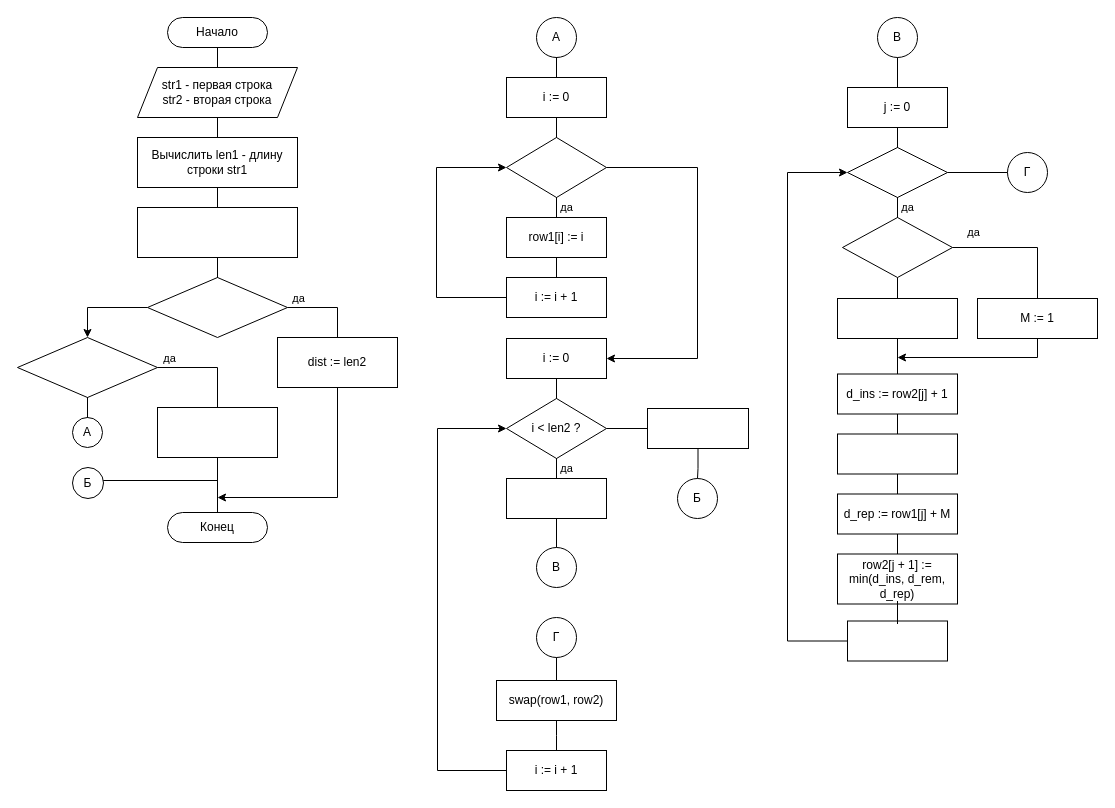
This 1115x808 diagram has some shape labels left out. The box of each missing label's shape, as (x1, y1, x2, y2) in pixels:
d_rem := row1[j+1]+1: (836, 433, 958, 474)
dist := len1: (156, 406, 278, 458)
dist := row1[len1]: (646, 408, 748, 448)
i < len1 + 1 ?: (506, 136, 606, 198)
j := j + 1: (846, 620, 948, 661)
j < len1 ?: (846, 146, 948, 198)
len1 = 0 ?: (146, 276, 288, 338)
len2 = 0 ?: (16, 336, 158, 398)
M := 0: (836, 298, 958, 338)
row2[i] := i + 1: (506, 478, 606, 518)
str1[j] = str2[i] ?: (842, 216, 952, 278)
Вычислить len2 - длину строки str2: (136, 206, 298, 258)
